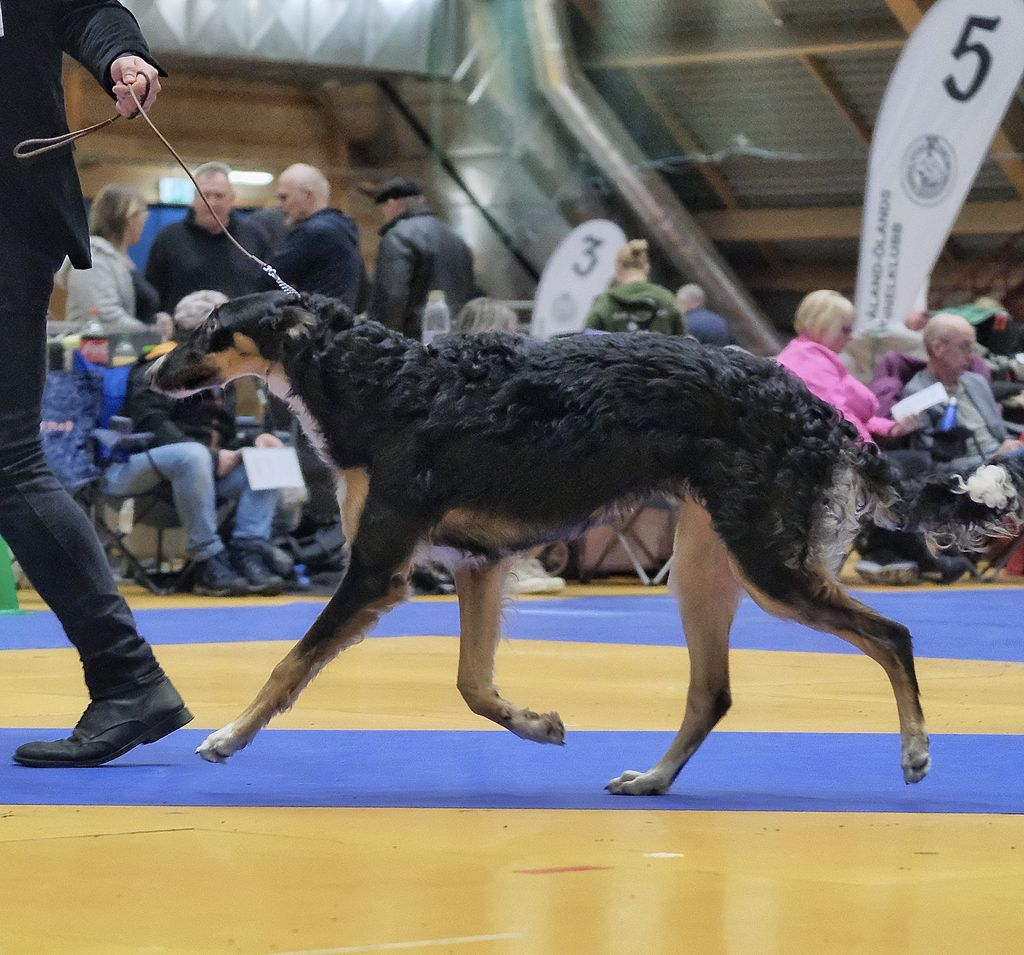borzoi: (126, 273, 969, 800)
